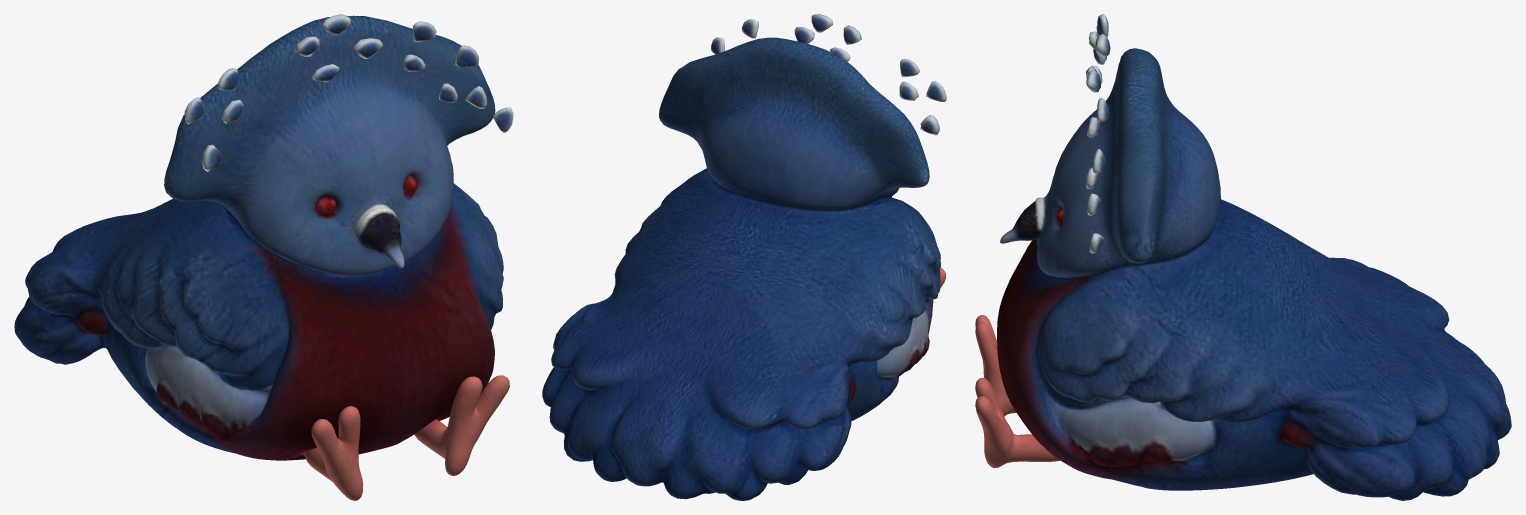
File: vanessa.glb
The picture shows the model from 3 angles, left to right: view 1: azimuth 30°, elevation 25°; view 2: azimuth 150°, elevation 25°; view 3: azimuth 270°, elevation 25°; orthographic projection. The views are drawn at different scales.
Parts seen in each view (by area): view 1: vanessa; view 2: vanessa; view 3: vanessa.
Part boxes in pixels (<box>): vanessa: <box>14,14,513,500</box>; vanessa: <box>542,14,946,500</box>; vanessa: <box>975,14,1511,500</box>.
Size of the model in its own units: 1.9 by 2.28 by 2.7.
Materials: 1 (1 with a texture image).
